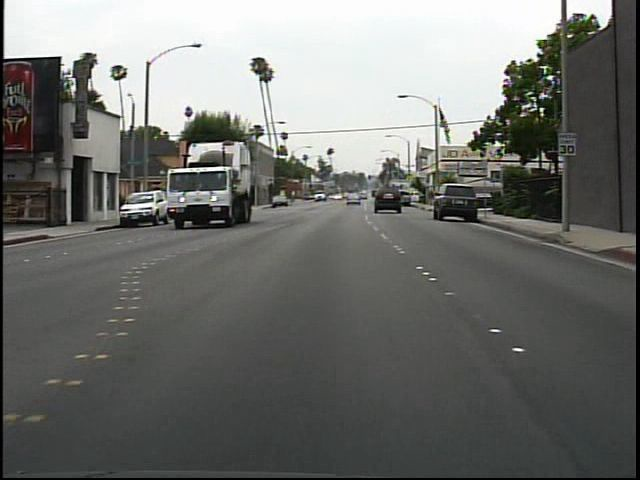person: (422, 183, 439, 212)
